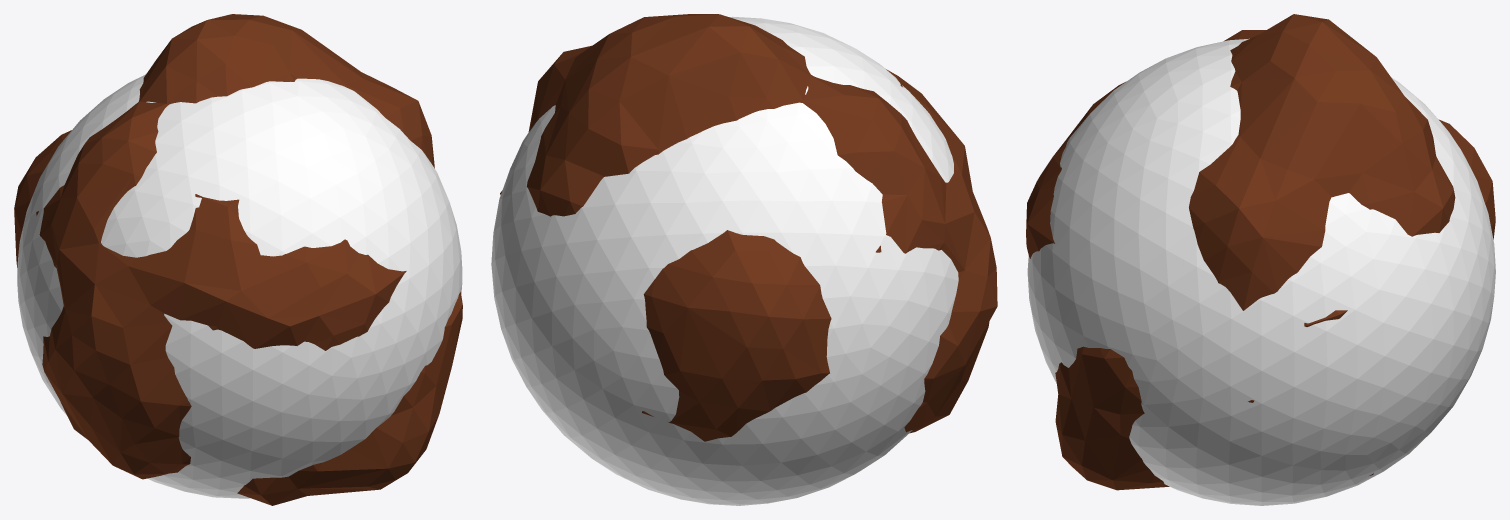
Rendered from cristal-decimated-planet.gltf.
3 renders of one model, left to right at view 1: azimuth 30°, elevation 25°; view 2: azimuth 150°, elevation 25°; view 3: azimuth 270°, elevation 25°, orthographic. The views are drawn at different scales.
Visible parts, largest first — view 1: Icosphere.001, Icosphere; view 2: Icosphere.001, Icosphere; view 3: Icosphere.001, Icosphere.
Part boxes in pixels (left/top/right/bottom): Icosphere.001: left=17, top=74, right=462, bottom=498; Icosphere: left=14, top=14, right=462, bottom=505; Icosphere.001: left=491, top=16, right=958, bottom=505; Icosphere: left=500, top=14, right=997, bottom=441; Icosphere.001: left=1027, top=38, right=1495, bottom=505; Icosphere: left=1026, top=14, right=1495, bottom=490.
Size of the model in its own units: 2.05 by 2.17 by 2.01.
